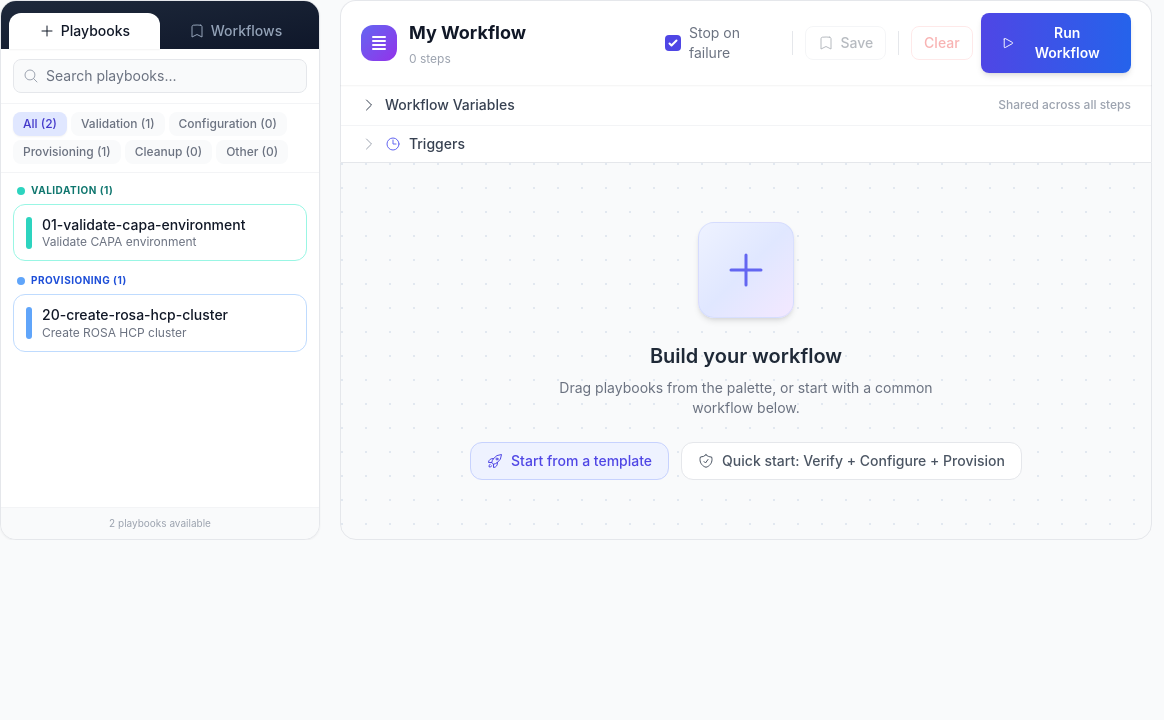
Test case: WorkflowBuilder › can switch back to playbooks tab
The image size is (1164, 720).
Switch to workflows tab
Step 1. Click the button "Workflows" → click(236, 31), box [160, 13, 311, 49]
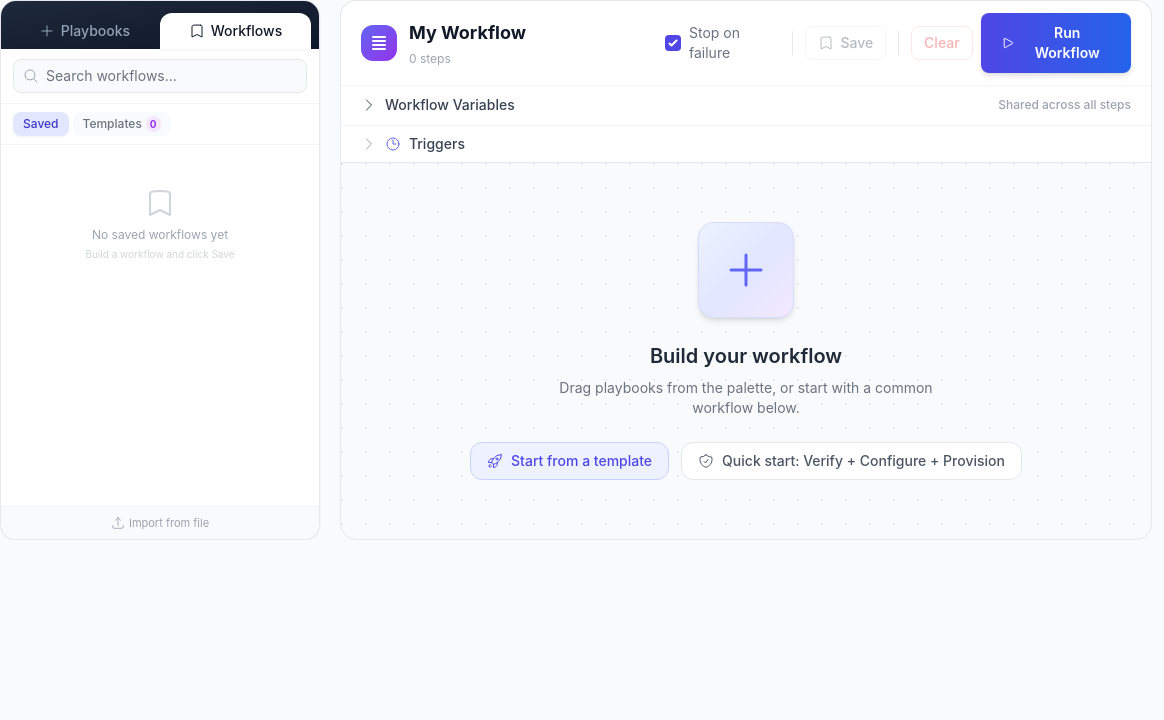
Switch back to playbooks tab
Step 2. Click the button "Playbooks" → click(84, 31), box [9, 13, 160, 49]
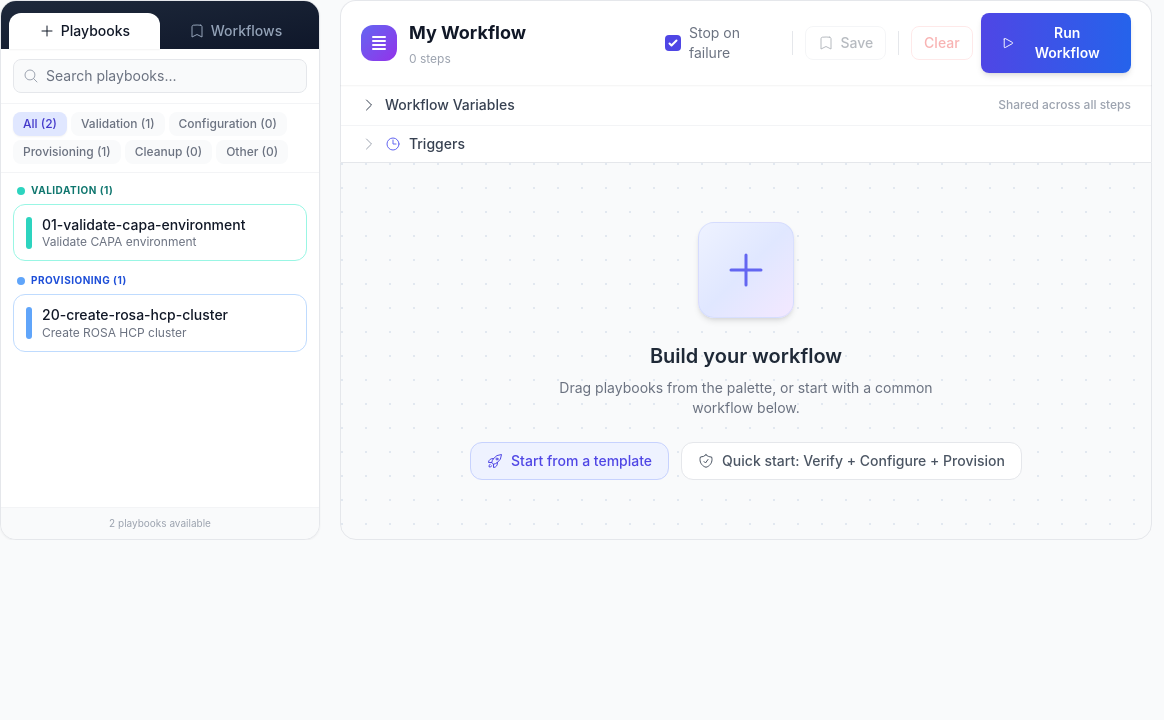
Expected: the field with placeholder "Search playbooks..." is shown, [13, 59, 307, 93]
